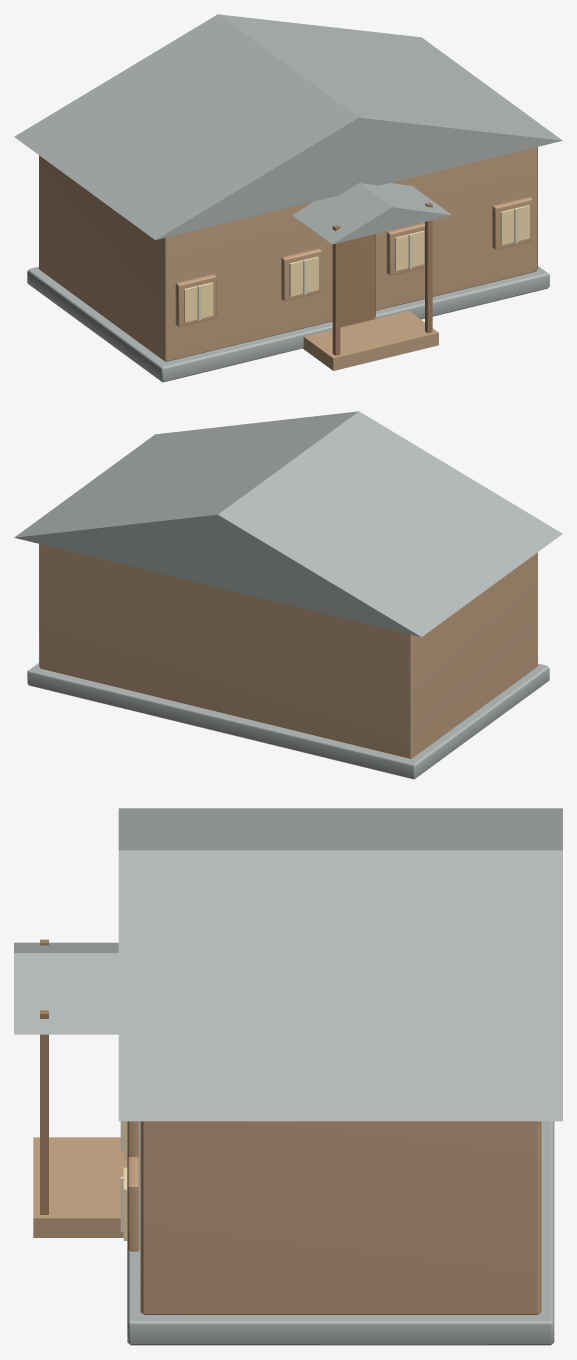
The model's file is fisher-longhouse.glb.
The picture shows the model from 3 angles, top to bottom: view 1: azimuth 30°, elevation 25°; view 2: azimuth 150°, elevation 25°; view 3: azimuth 270°, elevation 25°; orthographic projection. The views are drawn at different scales.
Parts seen in each view (by area): view 1: Fisher longhouse pitched roof, Fisher longhouse walls, Fisher longhouse stone footing, Porch awning, Timber porch, Fisher longhouse front door, Porch post, Porch post.001, Window trim, Warm pane.001, Warm pane.003, Warm pane (+4 smaller); view 2: Fisher longhouse pitched roof, Fisher longhouse walls, Fisher longhouse stone footing; view 3: Fisher longhouse pitched roof, Fisher longhouse walls, Fisher longhouse stone footing, Porch awning, Timber porch, Porch post.001, Window trim.003.
Boxes of the visible parts, <box> form: Fisher longhouse pitched roof: <box>14,14,562,240</box>; Fisher longhouse walls: <box>39,147,537,361</box>; Fisher longhouse stone footing: <box>27,266,549,382</box>; Porch awning: <box>292,183,451,244</box>; Timber porch: <box>303,311,438,370</box>; Fisher longhouse front door: <box>340,234,375,327</box>; Porch post: <box>332,225,340,355</box>; Porch post.001: <box>425,202,432,333</box>; Window trim: <box>175,274,216,326</box>; Warm pane.001: <box>289,256,318,296</box>; Warm pane.003: <box>500,205,529,245</box>; Warm pane: <box>184,282,213,322</box>; Fisher longhouse pitched roof: <box>14,411,562,637</box>; Fisher longhouse walls: <box>39,544,537,758</box>; Fisher longhouse stone footing: <box>27,663,549,779</box>; Fisher longhouse pitched roof: <box>118,808,562,1121</box>; Fisher longhouse walls: <box>140,1121,541,1314</box>; Fisher longhouse stone footing: <box>127,1121,554,1345</box>; Porch awning: <box>14,942,118,1034</box>; Timber porch: <box>33,1137,127,1237</box>; Porch post.001: <box>40,1010,48,1214</box>; Window trim.003: <box>127,1157,139,1251</box>.
Bounding box in the file's own units: 8.5 × 4.4 × 6.3.
